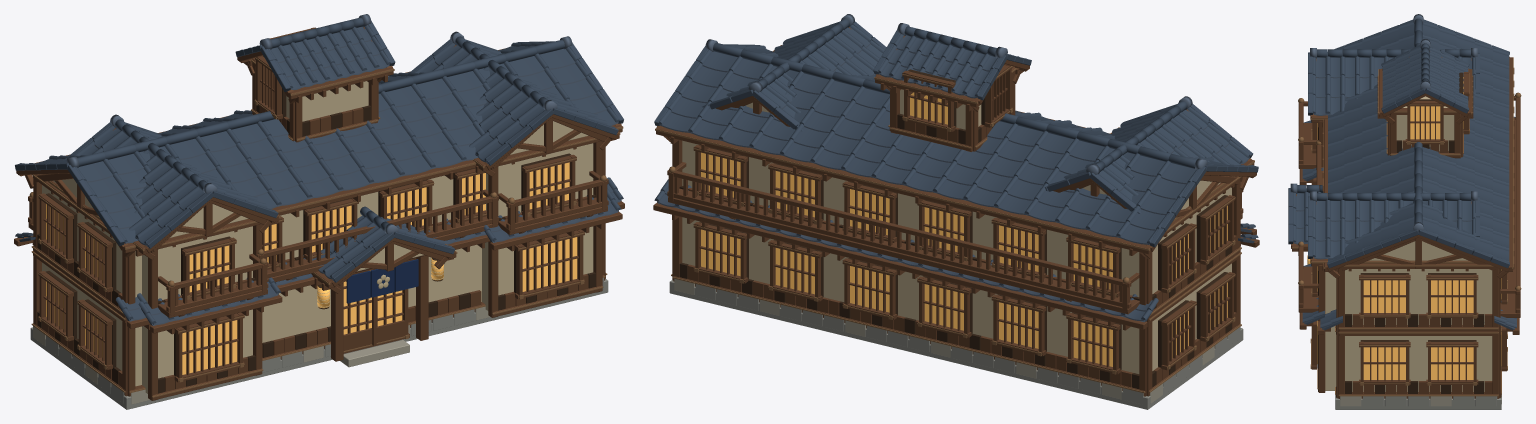
The picture shows the model from 3 angles, left to right: view 1: azimuth 30°, elevation 25°; view 2: azimuth 150°, elevation 25°; view 3: azimuth 270°, elevation 25°; orthographic projection. The views are drawn at different scales.
Parts seen in each view (by area): view 1: compact_skyscraper_2_geometry, compact_skyscraper_2_geometry ceramic; view 2: compact_skyscraper_2_geometry, compact_skyscraper_2_geometry ceramic; view 3: compact_skyscraper_2_geometry, compact_skyscraper_2_geometry ceramic.
Boxes of the visible parts, x1=… form: compact_skyscraper_2_geometry: x1=14, y1=27, x2=624, y2=409; compact_skyscraper_2_geometry ceramic: x1=15, y1=14, x2=623, y2=325; compact_skyscraper_2_geometry: x1=653, y1=27, x2=1259, y2=409; compact_skyscraper_2_geometry ceramic: x1=654, y1=14, x2=1258, y2=322; compact_skyscraper_2_geometry: x1=1291, y1=57, x2=1521, y2=409; compact_skyscraper_2_geometry ceramic: x1=1288, y1=14, x2=1516, y2=330.
Size of the model in its own units: 2.2 by 1.19 by 1.02.
